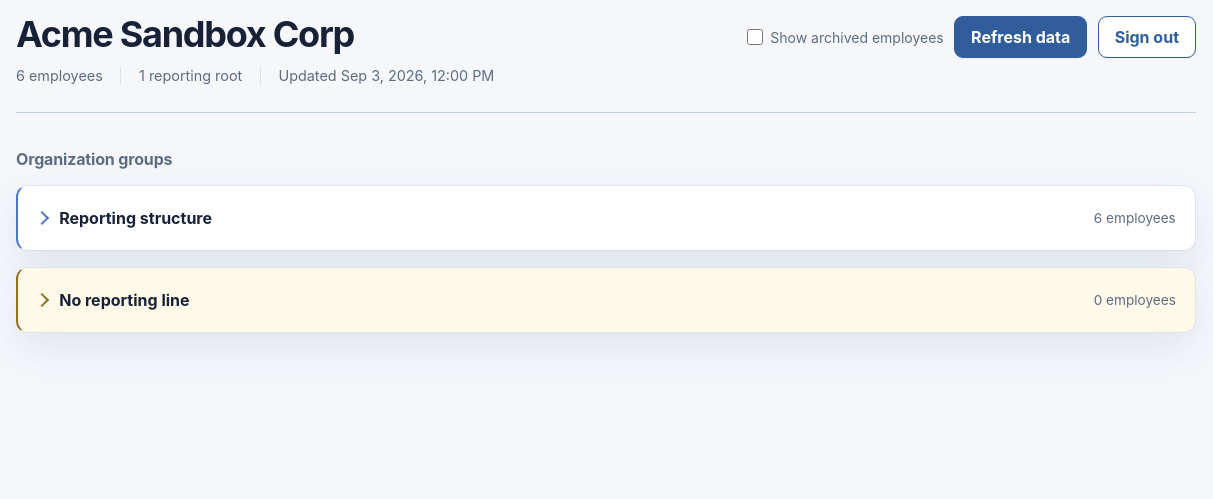
Test: OrgChart › distinguishes direct reports from all nested reports
Click the text "Reporting structure": (136, 218) top-left (59, 208), bottom-right (212, 228)
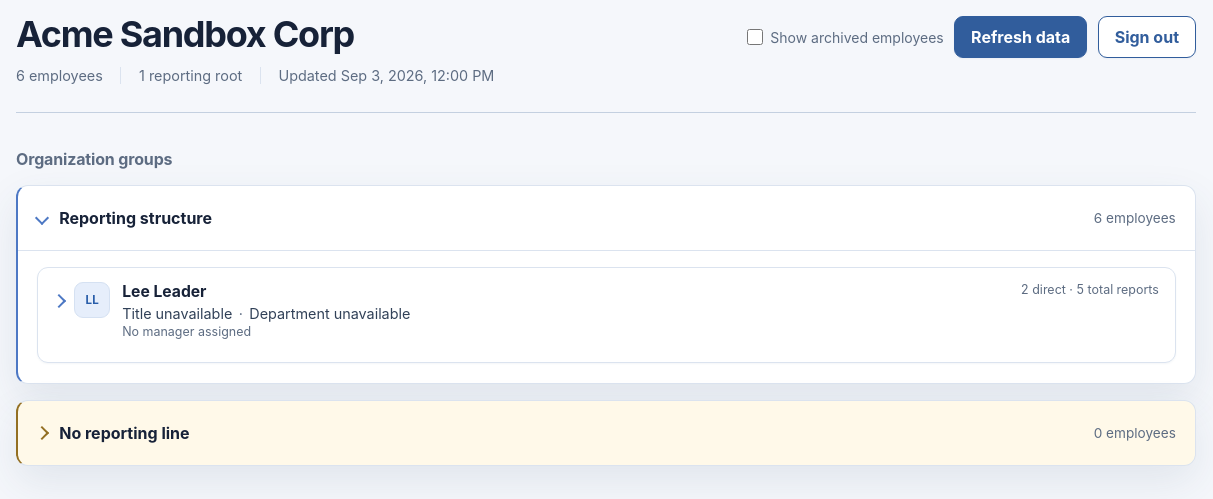
Expected: the text "2 direct · 5 total reports" is shown, top-left (1021, 282), bottom-right (1159, 302)
